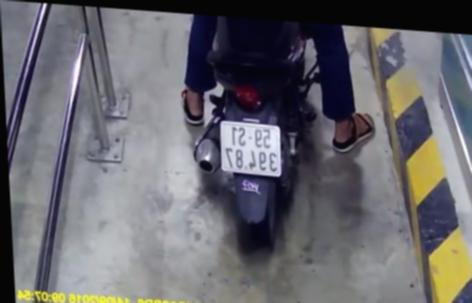License_Plate: (211, 116, 294, 185)
